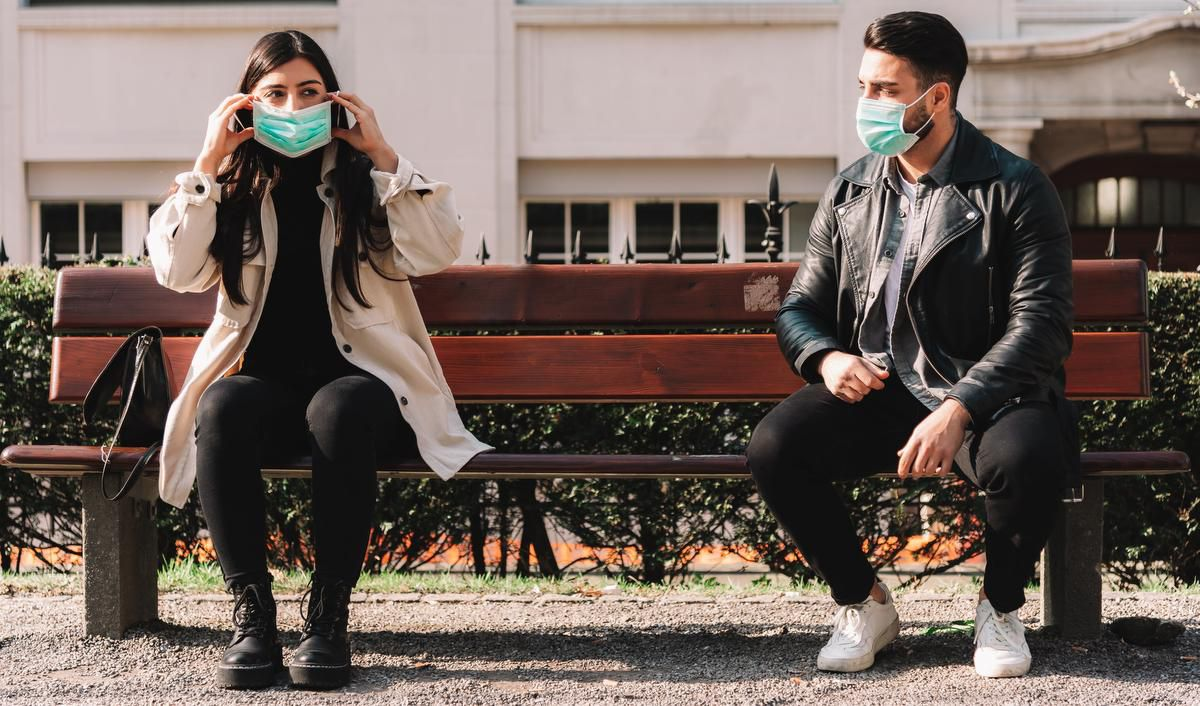Caution: (148, 16, 1081, 683)
